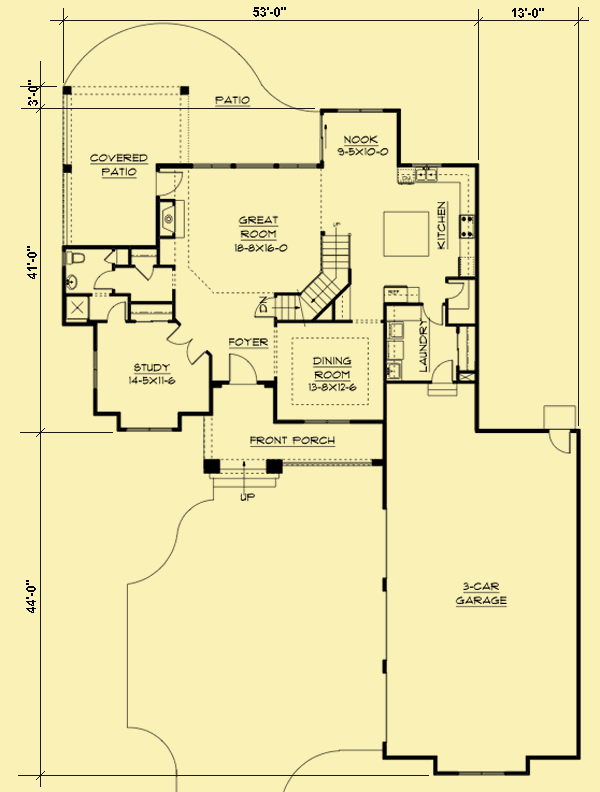door: (166, 324, 210, 364), (227, 352, 259, 387), (154, 166, 186, 199), (425, 358, 454, 388), (546, 429, 576, 455), (418, 301, 446, 328), (100, 301, 128, 326), (92, 268, 114, 292), (130, 263, 158, 281), (440, 281, 465, 299)
large_sink: (61, 246, 88, 269)
stairs: (270, 230, 350, 321)
twin_sink: (408, 167, 437, 185)
